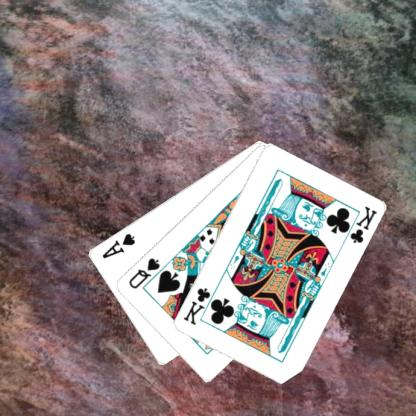AS: (101, 230, 138, 260)
KC: (341, 204, 380, 245), (182, 285, 220, 327)
QS: (127, 255, 163, 290)
